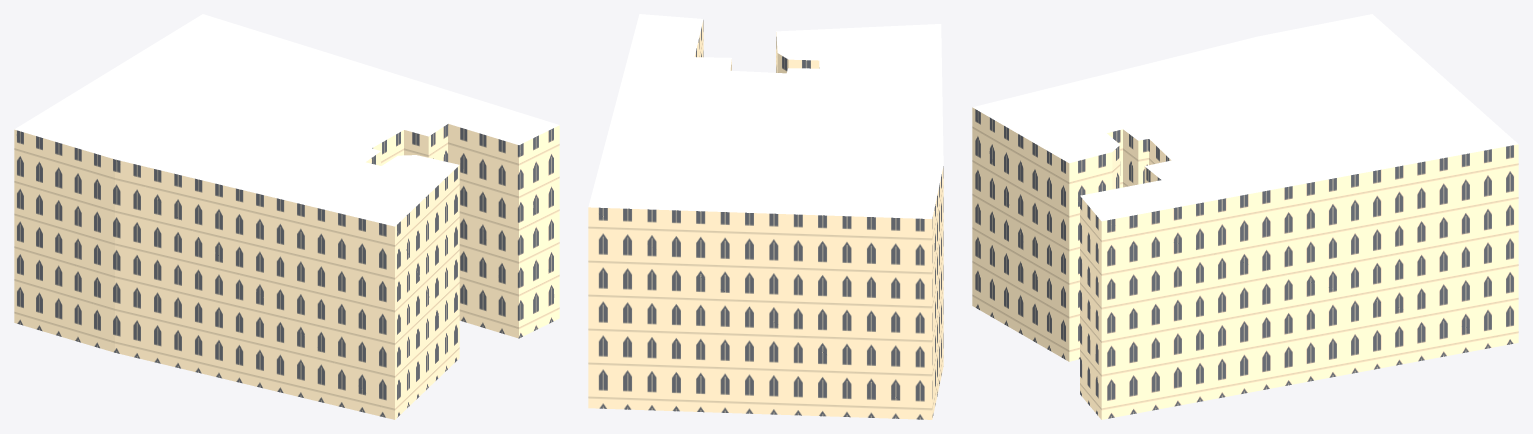
File: landmark-ismailiyya-palace.glb
The picture shows the model from 3 angles, left to right: view 1: azimuth 30°, elevation 25°; view 2: azimuth 150°, elevation 25°; view 3: azimuth 270°, elevation 25°; orthographic projection. The views are drawn at different scales.
Parts seen in each view (by area): view 1: ismailiyya-palace; view 2: ismailiyya-palace; view 3: ismailiyya-palace.
Part boxes in pixels (<box>): ismailiyya-palace: <box>14,14,559,419</box>; ismailiyya-palace: <box>588,14,943,419</box>; ismailiyya-palace: <box>972,14,1518,419</box>.
Bounding box in the file's own units: 60.9 × 27.19 × 67.79.
Materials: 2 (1 with a texture image).
